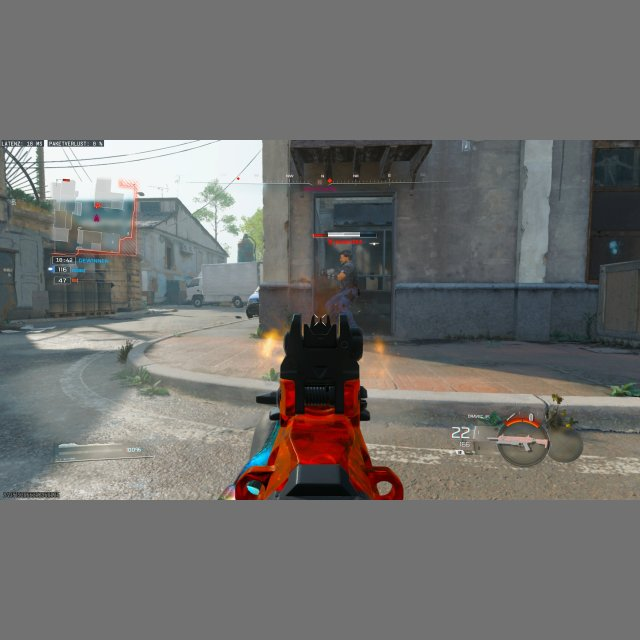head: (339, 251, 350, 264)
player: (323, 251, 364, 334)
